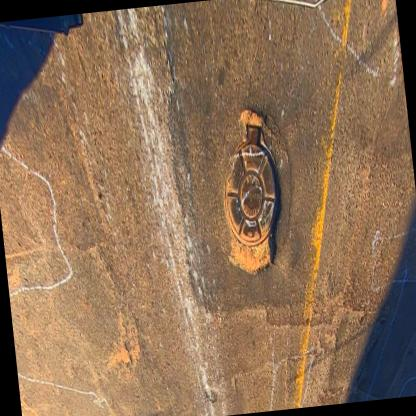manholes: (205, 99, 298, 285)
